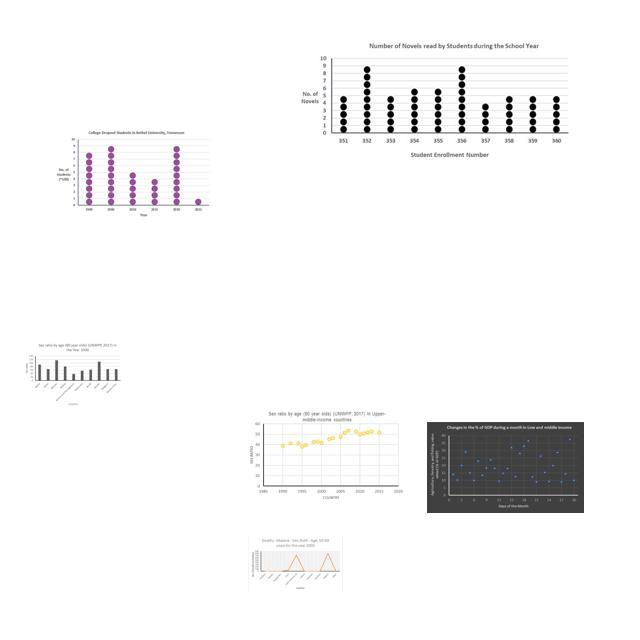Graph: (296, 38, 572, 161), (53, 128, 212, 221), (246, 409, 405, 501), (427, 422, 584, 513), (22, 341, 121, 406), (248, 536, 343, 592)
